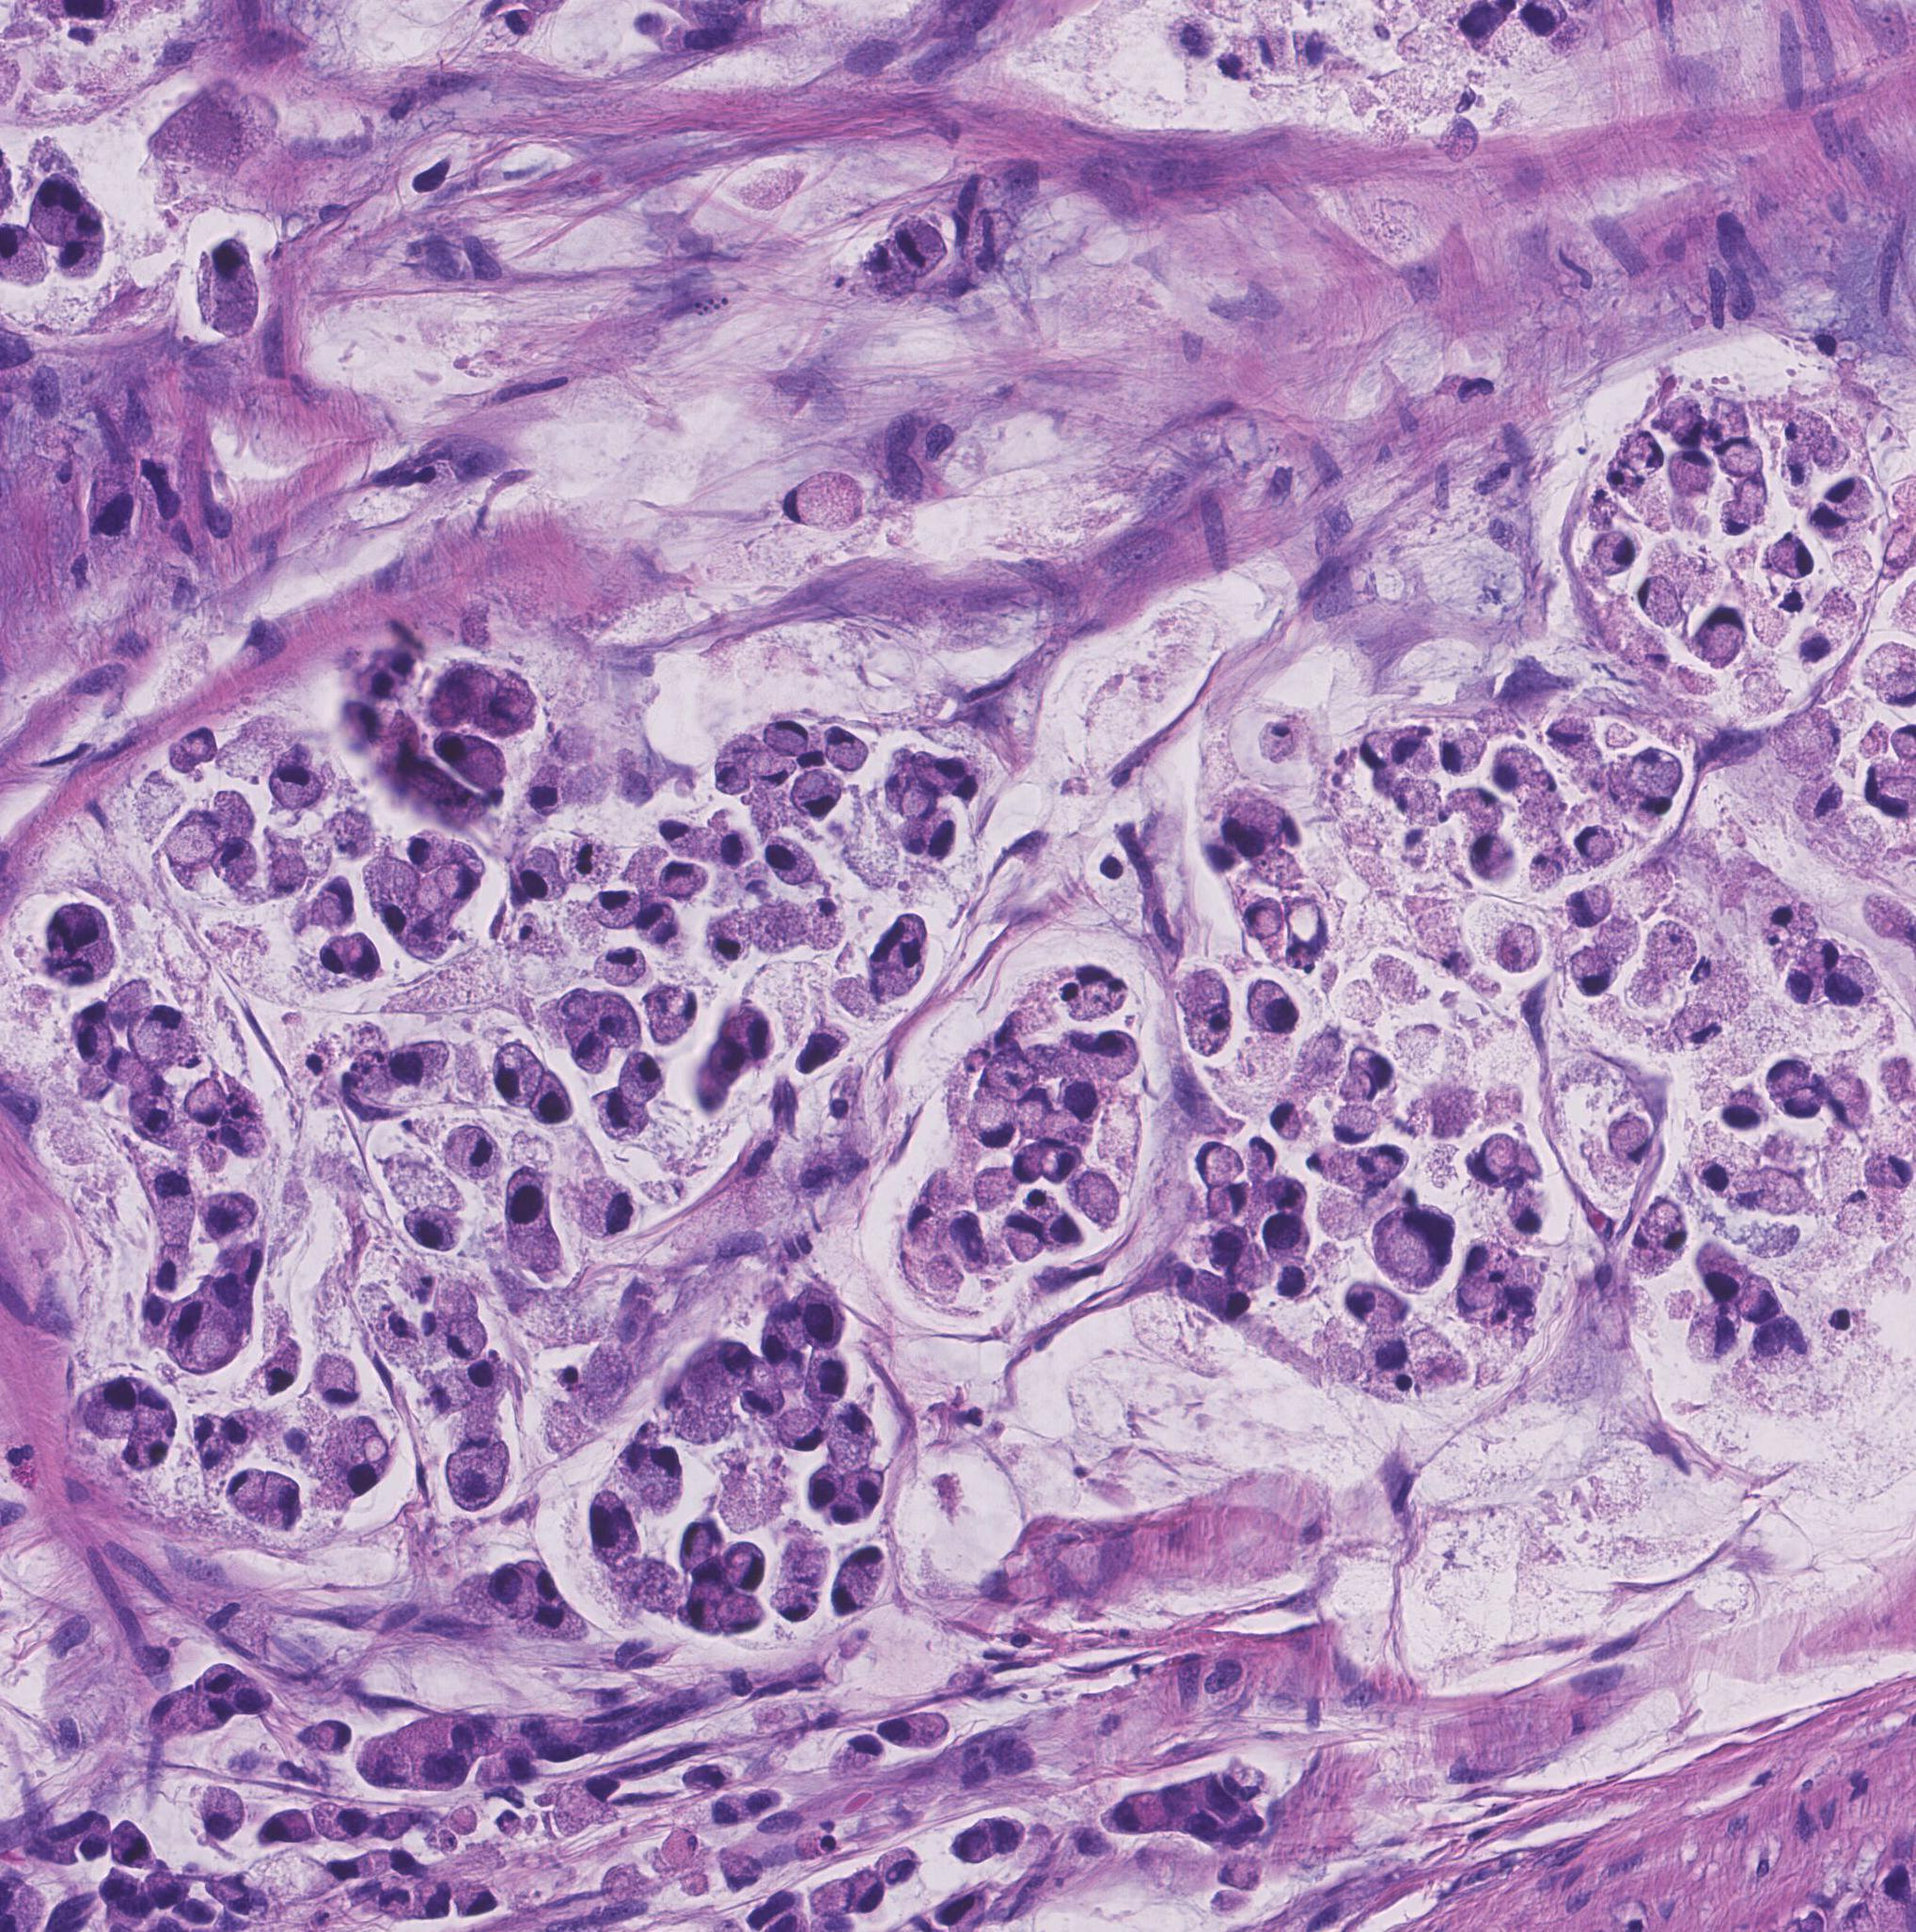ring_cell_cancer: (195, 240, 261, 335), (1376, 1209, 1455, 1286), (504, 1167, 563, 1267), (51, 902, 114, 983), (870, 912, 928, 997), (783, 474, 865, 532), (1179, 970, 1232, 1058), (363, 858, 423, 935), (174, 1300, 235, 1374), (142, 1169, 198, 1248), (321, 1439, 393, 1500), (623, 1442, 684, 1511), (1776, 711, 1844, 772), (433, 735, 511, 790), (130, 1009, 200, 1069), (1230, 793, 1291, 856), (77, 1372, 137, 1437), (584, 1492, 640, 1560), (914, 744, 979, 802), (451, 1444, 507, 1511), (890, 214, 947, 277), (642, 979, 700, 1042), (1458, 1237, 1502, 1316), (861, 244, 918, 305), (254, 1463, 304, 1534), (1065, 965, 1126, 1021), (554, 1772, 618, 1827), (911, 1170, 951, 1255), (490, 1042, 539, 1111), (581, 1177, 635, 1239), (872, 1707, 951, 1750), (32, 175, 81, 242), (756, 1318, 805, 1385), (1342, 1281, 1409, 1330), (1693, 602, 1744, 665), (1105, 1786, 1169, 1837), (382, 1042, 449, 1090), (444, 1125, 502, 1179), (590, 1088, 647, 1142), (1472, 1134, 1526, 1190), (1195, 1274, 1255, 1325), (516, 1606, 588, 1648), (402, 826, 479, 865), (1498, 1258, 1544, 1323), (795, 1018, 849, 1072), (902, 811, 960, 862), (483, 1565, 533, 1623), (1679, 1314, 1737, 1365), (440, 1711, 509, 1753), (825, 1074, 869, 1139), (830, 1413, 879, 1470), (1639, 1197, 1688, 1255), (1648, 923, 1697, 981), (119, 1421, 179, 1469), (1698, 1244, 1744, 1306), (732, 1365, 784, 1418), (791, 772, 846, 823), (1546, 709, 1597, 763), (144, 1692, 195, 1746), (1249, 979, 1298, 1035), (1567, 948, 1618, 1000), (825, 1562, 872, 1618), (95, 1874, 153, 1920), (825, 1730, 883, 1776), (1748, 1330, 1807, 1374), (560, 1023, 611, 1074), (798, 1349, 847, 1402), (986, 1049, 1035, 1102), (1630, 746, 1683, 795), (207, 1876, 268, 1918), (212, 835, 260, 890), (1186, 1772, 1240, 1820), (526, 762, 572, 818), (800, 1292, 846, 1348), (516, 853, 567, 902), (1193, 1139, 1244, 1188), (1830, 962, 1879, 1013), (197, 1788, 246, 1839), (1605, 1113, 1653, 1165), (1669, 1009, 1723, 1055), (1393, 716, 1435, 774), (704, 918, 753, 967), (414, 1744, 463, 1793), (769, 837, 816, 888), (1235, 895, 1286, 942), (676, 1581, 716, 1641), (947, 1213, 988, 1272), (314, 1353, 360, 1406), (730, 1011, 776, 1063), (1823, 1074, 1867, 1128), (268, 765, 325, 807), (311, 876, 356, 927), (221, 1469, 265, 1521), (772, 1407, 825, 1451), (1793, 777, 1846, 821), (586, 890, 642, 930), (418, 1370, 465, 1418), (1490, 746, 1537, 793), (658, 816, 709, 860), (207, 1195, 258, 1239), (1395, 781, 1446, 825), (1823, 477, 1874, 521), (365, 1739, 409, 1790), (656, 860, 709, 902), (598, 997, 640, 1049), (1321, 1107, 1384, 1142), (54, 240, 109, 281), (261, 1337, 302, 1392), (530, 1070, 570, 1125), (1621, 783, 1676, 823), (932, 1885, 986, 1925), (461, 1369, 507, 1416), (969, 1102, 1014, 1149), (1002, 1216, 1046, 1265), (405, 1209, 456, 1251), (1088, 1034, 1139, 1076), (1565, 884, 1616, 927), (126, 1095, 179, 1135), (633, 911, 688, 949), (297, 1716, 351, 1755), (1056, 1079, 1102, 1125), (1442, 728, 1488, 774), (707, 825, 754, 869), (1265, 1218, 1312, 1262), (111, 1823, 154, 1871), (168, 728, 218, 770), (375, 1307, 418, 1356), (846, 1541, 895, 1583), (523, 1556, 563, 1607), (676, 1516, 716, 1567), (1453, 786, 1504, 826), (1862, 1151, 1912, 1191), (437, 858, 483, 902), (1670, 453, 1716, 497), (1718, 433, 1763, 477), (874, 1843, 919, 1886), (823, 728, 870, 770), (1737, 1272, 1779, 1320), (623, 1055, 663, 1104), (1465, 837, 1514, 877), (344, 930, 382, 981), (326, 1851, 391, 1881), (1493, 925, 1537, 969), (74, 1021, 116, 1067), (447, 1314, 490, 1360), (1363, 1332, 1409, 1374), (1769, 535, 1814, 577), (411, 1879, 453, 1925), (725, 1542, 765, 1590), (260, 1807, 307, 1848), (1642, 581, 1681, 630), (318, 1804, 367, 1843), (595, 948, 646, 984), (458, 1881, 509, 1918), (1211, 1855, 1267, 1888), (186, 1081, 228, 1125), (1258, 1179, 1311, 1214), (1769, 902, 1821, 937), (1590, 532, 1634, 574), (763, 716, 809, 756), (774, 1585, 819, 1625), (716, 1850, 761, 1890), (1760, 1056, 1807, 1095), (684, 1758, 735, 1793), (225, 1409, 265, 1453), (1256, 721, 1297, 765), (495, 1746, 539, 1786), (842, 1869, 883, 1913), (949, 1821, 990, 1865), (1356, 725, 1393, 772), (1793, 937, 1841, 974), (1616, 435, 1663, 472), (1047, 1137, 1083, 1186), (1042, 1207, 1083, 1249), (1355, 1046, 1395, 1088), (1328, 1153, 1372, 1191), (1781, 967, 1825, 1005), (716, 1599, 763, 1634), (1244, 1128, 1277, 1177), (751, 749, 791, 790), (1204, 1228, 1246, 1267), (1604, 465, 1646, 504), (1016, 1090, 1053, 1134), (1335, 1063, 1376, 1102), (1505, 1199, 1542, 1241), (1805, 505, 1848, 542), (663, 1828, 700, 1871), (1721, 1095, 1765, 1130), (1181, 1816, 1225, 1851), (1814, 332, 1860, 365), (198, 1664, 244, 1697), (60, 214, 111, 244), (1267, 1100, 1305, 1139), (144, 1869, 182, 1907), (314, 939, 351, 979), (805, 1467, 842, 1507), (849, 1465, 886, 1506), (1007, 1144, 1047, 1181), (1779, 449, 1816, 490), (1574, 826, 1616, 862), (1270, 1267, 1312, 1300), (368, 1888, 412, 1920), (1202, 1191, 1251, 1220), (239, 1688, 288, 1716), (1255, 37, 1291, 74), (1298, 35, 1335, 72), (1793, 630, 1834, 663), (1211, 51, 1251, 84), (207, 1693, 235, 1741), (374, 1811, 416, 1843), (1695, 1158, 1730, 1195), (1718, 497, 1753, 533), (711, 1797, 747, 1832), (991, 1811, 1019, 1857), (1372, 1148, 1411, 1179), (1170, 32, 1209, 63), (391, 1850, 437, 1876), (1376, 1372, 1418, 1400), (1305, 1146, 1342, 1177), (177, 1897, 216, 1927), (1786, 1088, 1816, 1120), (746, 1786, 781, 1813), (830, 1500, 861, 1527)
